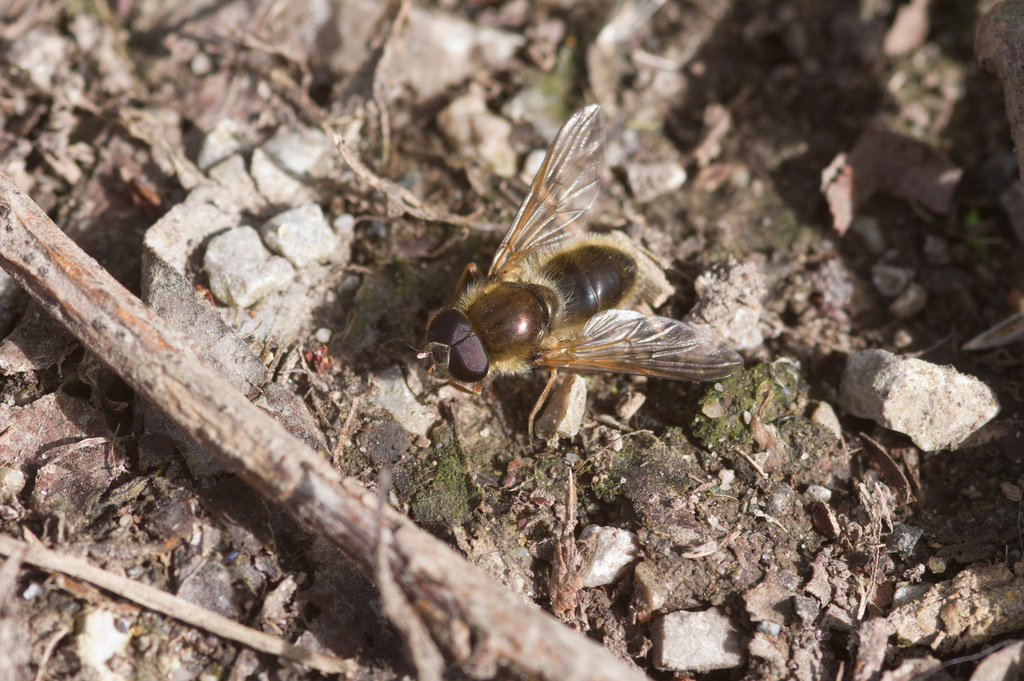not_bumblebee: (408, 102, 744, 454)
